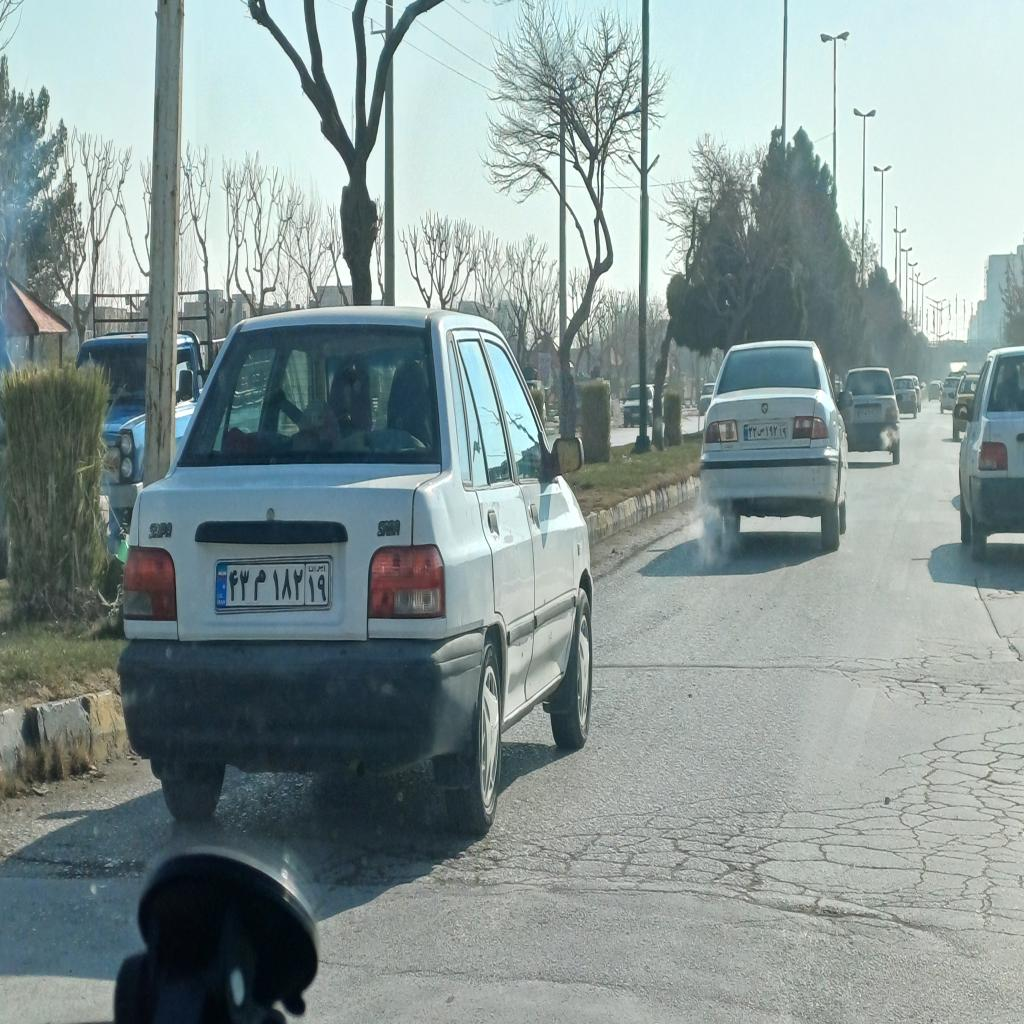Plates: (215, 556, 333, 613)
